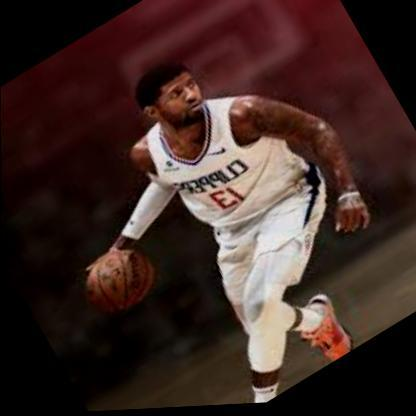basketball: (74, 236, 166, 326)
